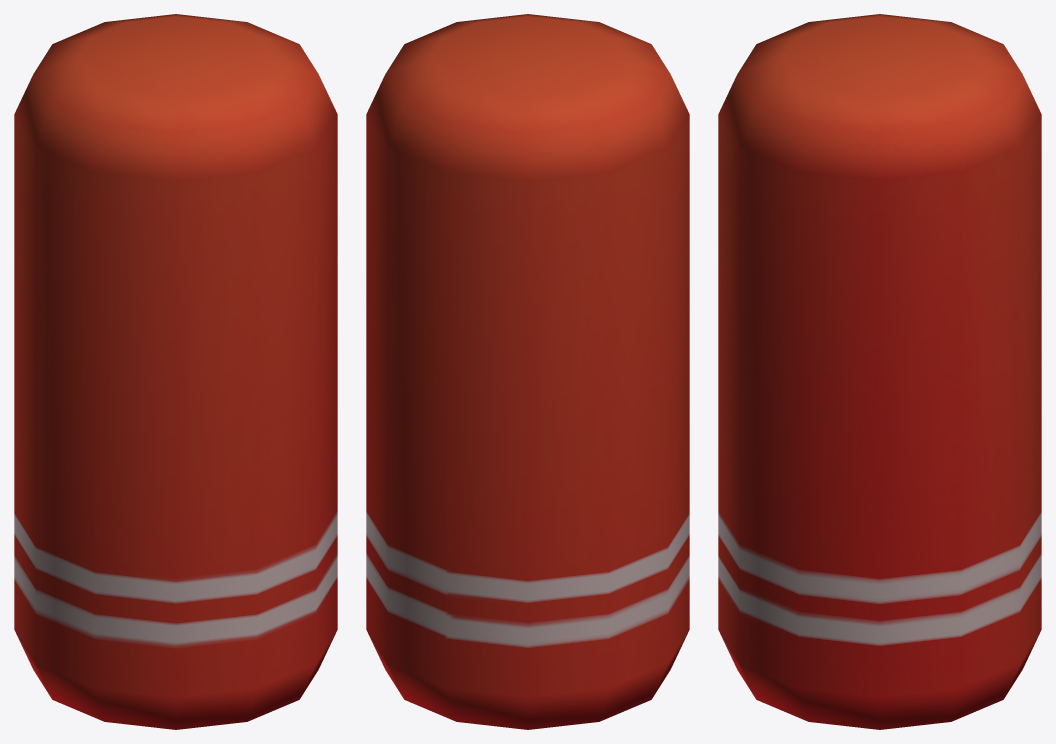
Rendered from Basic.fbx.
3 renders of one model, left to right at view 1: azimuth 30°, elevation 25°; view 2: azimuth 150°, elevation 25°; view 3: azimuth 270°, elevation 25°, orthographic.
Visible parts, largest first — view 1: Basic; view 2: Basic; view 3: Basic.
Boxes of the visible parts, x1,y1,x2,y2 form: Basic: (14,14,337,729); Basic: (366,14,689,729); Basic: (718,14,1041,729).
Size of the model in its own units: 200 by 429 by 200.
Materials: 1 (1 with a texture image).
